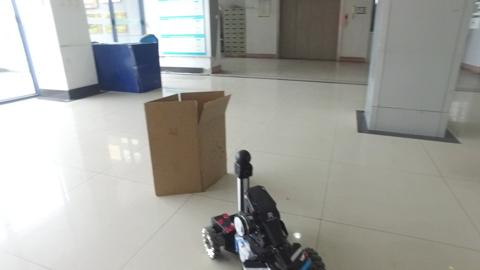box: (145, 87, 231, 197)
chariot: (200, 147, 329, 267)
